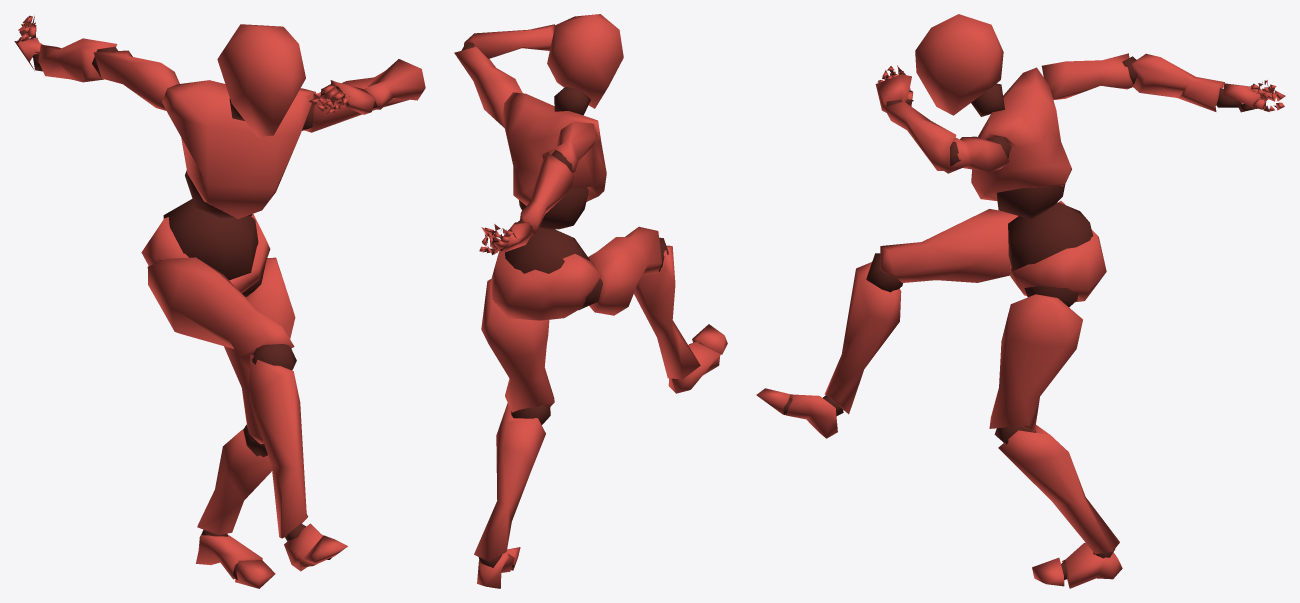
3 views of the same model, side by side, from view 1: azimuth 30°, elevation 25°; view 2: azimuth 150°, elevation 25°; view 3: azimuth 270°, elevation 25° (orthographic). The views are drawn at different scales.
Parts seen in each view (by area): view 1: Beta_Surface; view 2: Beta_Surface; view 3: Beta_Surface.
Part boxes in pixels (bbox=[...]): Beta_Surface: bbox=[14, 15, 425, 588]; Beta_Surface: bbox=[454, 14, 727, 588]; Beta_Surface: bbox=[756, 14, 1285, 588].
Size of the model in its own units: 5.92 by 14.57 by 12.77.
